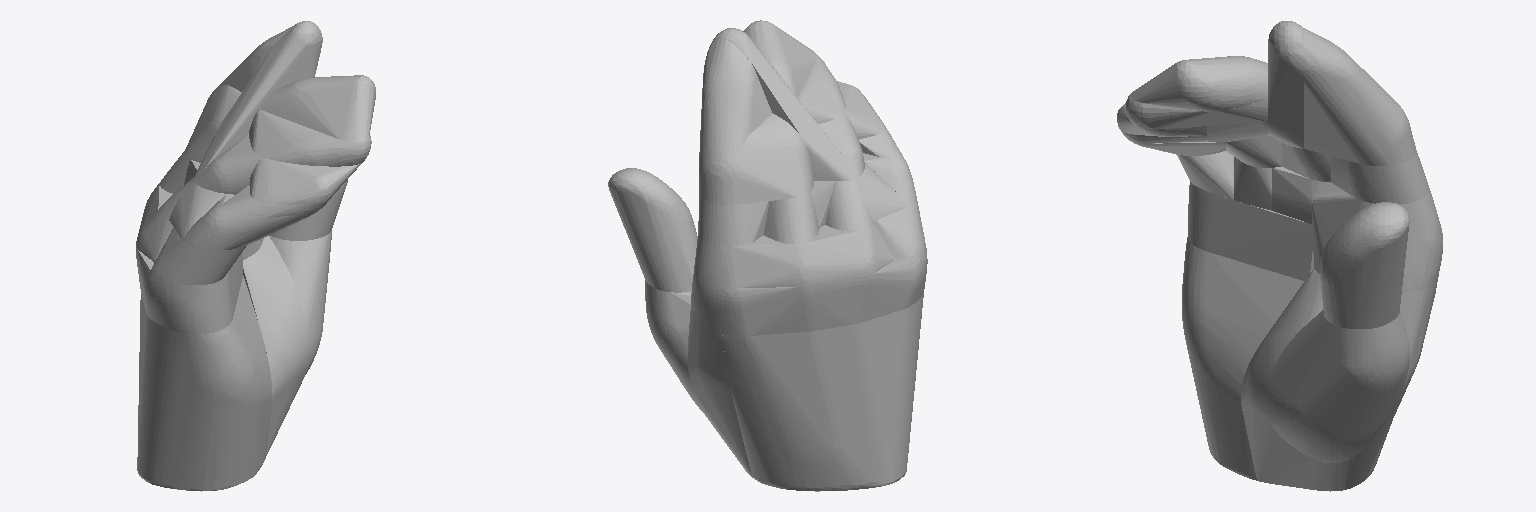
The robot description file, URDF, robot "root":
<robot name="root">
  <link name="object">
    <visual>
      <origin xyz="0 0 0" rpy="0 0 0"/>
      <geometry>
        <mesh filename="coacd_convex_piece_0.obj" scale="1.0000E+00 1.0000E+00 1.0000E+00"/>
      </geometry>
      <material name="">
        <color rgba="7.50E-01 7.50E-01 7.50E-01 1"/>
      </material>
    </visual>
    <collision>
      <origin xyz="0 0 0" rpy="0 0 0"/>
      <geometry>
        <mesh filename="coacd_convex_piece_0.obj" scale="1.0000E+00 1.0000E+00 1.0000E+00"/>
      </geometry>
    </collision>
    <visual>
      <origin xyz="0 0 0" rpy="0 0 0"/>
      <geometry>
        <mesh filename="coacd_convex_piece_1.obj" scale="1.0000E+00 1.0000E+00 1.0000E+00"/>
      </geometry>
      <material name="">
        <color rgba="7.50E-01 7.50E-01 7.50E-01 1"/>
      </material>
    </visual>
    <collision>
      <origin xyz="0 0 0" rpy="0 0 0"/>
      <geometry>
        <mesh filename="coacd_convex_piece_1.obj" scale="1.0000E+00 1.0000E+00 1.0000E+00"/>
      </geometry>
    </collision>
    <visual>
      <origin xyz="0 0 0" rpy="0 0 0"/>
      <geometry>
        <mesh filename="coacd_convex_piece_2.obj" scale="1.0000E+00 1.0000E+00 1.0000E+00"/>
      </geometry>
      <material name="">
        <color rgba="7.50E-01 7.50E-01 7.50E-01 1"/>
      </material>
    </visual>
    <collision>
      <origin xyz="0 0 0" rpy="0 0 0"/>
      <geometry>
        <mesh filename="coacd_convex_piece_2.obj" scale="1.0000E+00 1.0000E+00 1.0000E+00"/>
      </geometry>
    </collision>
    <visual>
      <origin xyz="0 0 0" rpy="0 0 0"/>
      <geometry>
        <mesh filename="coacd_convex_piece_3.obj" scale="1.0000E+00 1.0000E+00 1.0000E+00"/>
      </geometry>
      <material name="">
        <color rgba="7.50E-01 7.50E-01 7.50E-01 1"/>
      </material>
    </visual>
    <collision>
      <origin xyz="0 0 0" rpy="0 0 0"/>
      <geometry>
        <mesh filename="coacd_convex_piece_3.obj" scale="1.0000E+00 1.0000E+00 1.0000E+00"/>
      </geometry>
    </collision>
    <visual>
      <origin xyz="0 0 0" rpy="0 0 0"/>
      <geometry>
        <mesh filename="coacd_convex_piece_4.obj" scale="1.0000E+00 1.0000E+00 1.0000E+00"/>
      </geometry>
      <material name="">
        <color rgba="7.50E-01 7.50E-01 7.50E-01 1"/>
      </material>
    </visual>
    <collision>
      <origin xyz="0 0 0" rpy="0 0 0"/>
      <geometry>
        <mesh filename="coacd_convex_piece_4.obj" scale="1.0000E+00 1.0000E+00 1.0000E+00"/>
      </geometry>
    </collision>
    <visual>
      <origin xyz="0 0 0" rpy="0 0 0"/>
      <geometry>
        <mesh filename="coacd_convex_piece_5.obj" scale="1.0000E+00 1.0000E+00 1.0000E+00"/>
      </geometry>
      <material name="">
        <color rgba="7.50E-01 7.50E-01 7.50E-01 1"/>
      </material>
    </visual>
    <collision>
      <origin xyz="0 0 0" rpy="0 0 0"/>
      <geometry>
        <mesh filename="coacd_convex_piece_5.obj" scale="1.0000E+00 1.0000E+00 1.0000E+00"/>
      </geometry>
    </collision>
    <visual>
      <origin xyz="0 0 0" rpy="0 0 0"/>
      <geometry>
        <mesh filename="coacd_convex_piece_6.obj" scale="1.0000E+00 1.0000E+00 1.0000E+00"/>
      </geometry>
      <material name="">
        <color rgba="7.50E-01 7.50E-01 7.50E-01 1"/>
      </material>
    </visual>
    <collision>
      <origin xyz="0 0 0" rpy="0 0 0"/>
      <geometry>
        <mesh filename="coacd_convex_piece_6.obj" scale="1.0000E+00 1.0000E+00 1.0000E+00"/>
      </geometry>
    </collision>
    <visual>
      <origin xyz="0 0 0" rpy="0 0 0"/>
      <geometry>
        <mesh filename="coacd_convex_piece_7.obj" scale="1.0000E+00 1.0000E+00 1.0000E+00"/>
      </geometry>
      <material name="">
        <color rgba="7.50E-01 7.50E-01 7.50E-01 1"/>
      </material>
    </visual>
    <collision>
      <origin xyz="0 0 0" rpy="0 0 0"/>
      <geometry>
        <mesh filename="coacd_convex_piece_7.obj" scale="1.0000E+00 1.0000E+00 1.0000E+00"/>
      </geometry>
    </collision>
    <visual>
      <origin xyz="0 0 0" rpy="0 0 0"/>
      <geometry>
        <mesh filename="coacd_convex_piece_8.obj" scale="1.0000E+00 1.0000E+00 1.0000E+00"/>
      </geometry>
      <material name="">
        <color rgba="7.50E-01 7.50E-01 7.50E-01 1"/>
      </material>
    </visual>
    <collision>
      <origin xyz="0 0 0" rpy="0 0 0"/>
      <geometry>
        <mesh filename="coacd_convex_piece_8.obj" scale="1.0000E+00 1.0000E+00 1.0000E+00"/>
      </geometry>
    </collision>
    <visual>
      <origin xyz="0 0 0" rpy="0 0 0"/>
      <geometry>
        <mesh filename="coacd_convex_piece_9.obj" scale="1.0000E+00 1.0000E+00 1.0000E+00"/>
      </geometry>
      <material name="">
        <color rgba="7.50E-01 7.50E-01 7.50E-01 1"/>
      </material>
    </visual>
    <collision>
      <origin xyz="0 0 0" rpy="0 0 0"/>
      <geometry>
        <mesh filename="coacd_convex_piece_9.obj" scale="1.0000E+00 1.0000E+00 1.0000E+00"/>
      </geometry>
    </collision>
    <visual>
      <origin xyz="0 0 0" rpy="0 0 0"/>
      <geometry>
        <mesh filename="coacd_convex_piece_10.obj" scale="1.0000E+00 1.0000E+00 1.0000E+00"/>
      </geometry>
      <material name="">
        <color rgba="7.50E-01 7.50E-01 7.50E-01 1"/>
      </material>
    </visual>
    <collision>
      <origin xyz="0 0 0" rpy="0 0 0"/>
      <geometry>
        <mesh filename="coacd_convex_piece_10.obj" scale="1.0000E+00 1.0000E+00 1.0000E+00"/>
      </geometry>
    </collision>
    <visual>
      <origin xyz="0 0 0" rpy="0 0 0"/>
      <geometry>
        <mesh filename="coacd_convex_piece_11.obj" scale="1.0000E+00 1.0000E+00 1.0000E+00"/>
      </geometry>
      <material name="">
        <color rgba="7.50E-01 7.50E-01 7.50E-01 1"/>
      </material>
    </visual>
    <collision>
      <origin xyz="0 0 0" rpy="0 0 0"/>
      <geometry>
        <mesh filename="coacd_convex_piece_11.obj" scale="1.0000E+00 1.0000E+00 1.0000E+00"/>
      </geometry>
    </collision>
    <visual>
      <origin xyz="0 0 0" rpy="0 0 0"/>
      <geometry>
        <mesh filename="coacd_convex_piece_12.obj" scale="1.0000E+00 1.0000E+00 1.0000E+00"/>
      </geometry>
      <material name="">
        <color rgba="7.50E-01 7.50E-01 7.50E-01 1"/>
      </material>
    </visual>
    <collision>
      <origin xyz="0 0 0" rpy="0 0 0"/>
      <geometry>
        <mesh filename="coacd_convex_piece_12.obj" scale="1.0000E+00 1.0000E+00 1.0000E+00"/>
      </geometry>
    </collision>
    <visual>
      <origin xyz="0 0 0" rpy="0 0 0"/>
      <geometry>
        <mesh filename="coacd_convex_piece_13.obj" scale="1.0000E+00 1.0000E+00 1.0000E+00"/>
      </geometry>
      <material name="">
        <color rgba="7.50E-01 7.50E-01 7.50E-01 1"/>
      </material>
    </visual>
    <collision>
      <origin xyz="0 0 0" rpy="0 0 0"/>
      <geometry>
        <mesh filename="coacd_convex_piece_13.obj" scale="1.0000E+00 1.0000E+00 1.0000E+00"/>
      </geometry>
    </collision>
    <visual>
      <origin xyz="0 0 0" rpy="0 0 0"/>
      <geometry>
        <mesh filename="coacd_convex_piece_14.obj" scale="1.0000E+00 1.0000E+00 1.0000E+00"/>
      </geometry>
      <material name="">
        <color rgba="7.50E-01 7.50E-01 7.50E-01 1"/>
      </material>
    </visual>
    <collision>
      <origin xyz="0 0 0" rpy="0 0 0"/>
      <geometry>
        <mesh filename="coacd_convex_piece_14.obj" scale="1.0000E+00 1.0000E+00 1.0000E+00"/>
      </geometry>
    </collision>
    <visual>
      <origin xyz="0 0 0" rpy="0 0 0"/>
      <geometry>
        <mesh filename="coacd_convex_piece_15.obj" scale="1.0000E+00 1.0000E+00 1.0000E+00"/>
      </geometry>
      <material name="">
        <color rgba="7.50E-01 7.50E-01 7.50E-01 1"/>
      </material>
    </visual>
    <collision>
      <origin xyz="0 0 0" rpy="0 0 0"/>
      <geometry>
        <mesh filename="coacd_convex_piece_15.obj" scale="1.0000E+00 1.0000E+00 1.0000E+00"/>
      </geometry>
    </collision>
    <visual>
      <origin xyz="0 0 0" rpy="0 0 0"/>
      <geometry>
        <mesh filename="coacd_convex_piece_16.obj" scale="1.0000E+00 1.0000E+00 1.0000E+00"/>
      </geometry>
      <material name="">
        <color rgba="7.50E-01 7.50E-01 7.50E-01 1"/>
      </material>
    </visual>
    <collision>
      <origin xyz="0 0 0" rpy="0 0 0"/>
      <geometry>
        <mesh filename="coacd_convex_piece_16.obj" scale="1.0000E+00 1.0000E+00 1.0000E+00"/>
      </geometry>
    </collision>
    <visual>
      <origin xyz="0 0 0" rpy="0 0 0"/>
      <geometry>
        <mesh filename="coacd_convex_piece_17.obj" scale="1.0000E+00 1.0000E+00 1.0000E+00"/>
      </geometry>
      <material name="">
        <color rgba="7.50E-01 7.50E-01 7.50E-01 1"/>
      </material>
    </visual>
    <collision>
      <origin xyz="0 0 0" rpy="0 0 0"/>
      <geometry>
        <mesh filename="coacd_convex_piece_17.obj" scale="1.0000E+00 1.0000E+00 1.0000E+00"/>
      </geometry>
    </collision>
    <visual>
      <origin xyz="0 0 0" rpy="0 0 0"/>
      <geometry>
        <mesh filename="coacd_convex_piece_18.obj" scale="1.0000E+00 1.0000E+00 1.0000E+00"/>
      </geometry>
      <material name="">
        <color rgba="7.50E-01 7.50E-01 7.50E-01 1"/>
      </material>
    </visual>
    <collision>
      <origin xyz="0 0 0" rpy="0 0 0"/>
      <geometry>
        <mesh filename="coacd_convex_piece_18.obj" scale="1.0000E+00 1.0000E+00 1.0000E+00"/>
      </geometry>
    </collision>
    <visual>
      <origin xyz="0 0 0" rpy="0 0 0"/>
      <geometry>
        <mesh filename="coacd_convex_piece_19.obj" scale="1.0000E+00 1.0000E+00 1.0000E+00"/>
      </geometry>
      <material name="">
        <color rgba="7.50E-01 7.50E-01 7.50E-01 1"/>
      </material>
    </visual>
    <collision>
      <origin xyz="0 0 0" rpy="0 0 0"/>
      <geometry>
        <mesh filename="coacd_convex_piece_19.obj" scale="1.0000E+00 1.0000E+00 1.0000E+00"/>
      </geometry>
    </collision>
    <visual>
      <origin xyz="0 0 0" rpy="0 0 0"/>
      <geometry>
        <mesh filename="coacd_convex_piece_20.obj" scale="1.0000E+00 1.0000E+00 1.0000E+00"/>
      </geometry>
      <material name="">
        <color rgba="7.50E-01 7.50E-01 7.50E-01 1"/>
      </material>
    </visual>
    <collision>
      <origin xyz="0 0 0" rpy="0 0 0"/>
      <geometry>
        <mesh filename="coacd_convex_piece_20.obj" scale="1.0000E+00 1.0000E+00 1.0000E+00"/>
      </geometry>
    </collision>
    <visual>
      <origin xyz="0 0 0" rpy="0 0 0"/>
      <geometry>
        <mesh filename="coacd_convex_piece_21.obj" scale="1.0000E+00 1.0000E+00 1.0000E+00"/>
      </geometry>
      <material name="">
        <color rgba="7.50E-01 7.50E-01 7.50E-01 1"/>
      </material>
    </visual>
    <collision>
      <origin xyz="0 0 0" rpy="0 0 0"/>
      <geometry>
        <mesh filename="coacd_convex_piece_21.obj" scale="1.0000E+00 1.0000E+00 1.0000E+00"/>
      </geometry>
    </collision>
    <visual>
      <origin xyz="0 0 0" rpy="0 0 0"/>
      <geometry>
        <mesh filename="coacd_convex_piece_22.obj" scale="1.0000E+00 1.0000E+00 1.0000E+00"/>
      </geometry>
      <material name="">
        <color rgba="7.50E-01 7.50E-01 7.50E-01 1"/>
      </material>
    </visual>
    <collision>
      <origin xyz="0 0 0" rpy="0 0 0"/>
      <geometry>
        <mesh filename="coacd_convex_piece_22.obj" scale="1.0000E+00 1.0000E+00 1.0000E+00"/>
      </geometry>
    </collision>
  </link>
</robot>

--- Facts derived from the render (not from the file) ---
Views: 3 orthographic renders of the robot side by side, from view 1: azimuth 30°, elevation 25°; view 2: azimuth 150°, elevation 25°; view 3: azimuth 270°, elevation 25°.
Robot: root — 1 links, 0 joints (none); root link object; default pose: all joints at 0.
Visible links, largest first — view 1: object; view 2: object; view 3: object.
Boxes of the visible links, x1,y1,x2,y2 form: object: [136, 21, 375, 491]; object: [608, 20, 927, 491]; object: [1117, 21, 1442, 491].
Size in the robot's own frame: 0.0891 by 0.084 by 0.1393 metres.
23 mesh visuals loaded from 23 distinct referenced files (23 OBJ).
